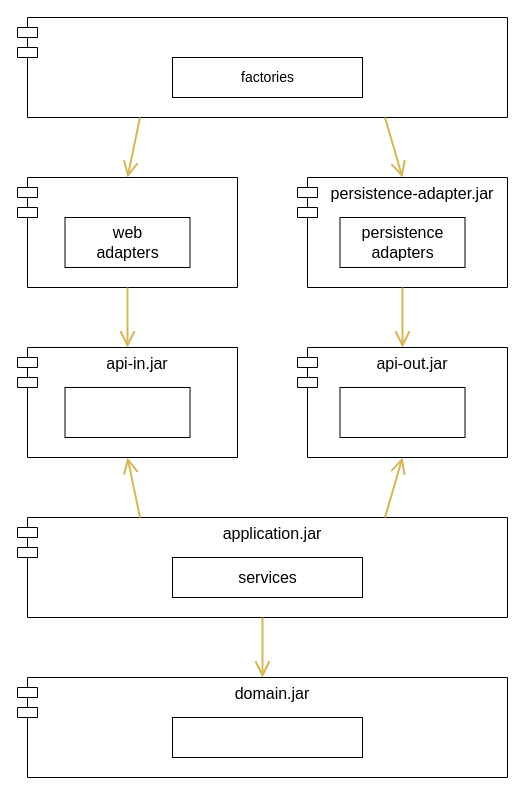
The diagram is 525 pixels wide and 795 high, and some of its shapes have lost their labels. The box of each missing label's shape, as (x1, y1, x2, y2) in pixels:
configuration.jar: (16, 16, 508, 118)
domain model: (172, 716, 362, 758)
input ports: (64, 386, 190, 438)
output ports: (339, 386, 465, 438)
web-adapter.jar: (16, 176, 238, 288)
